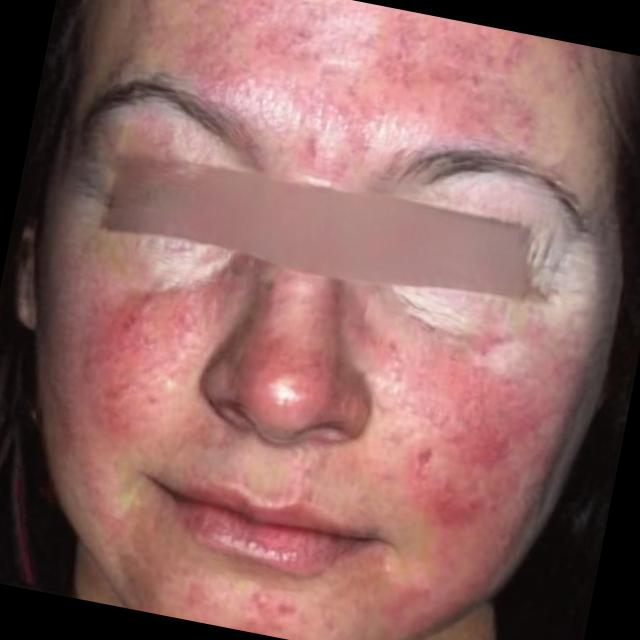redness: (174, 0, 540, 182), (333, 309, 580, 567), (71, 266, 222, 453), (236, 587, 302, 632), (381, 577, 437, 630)
